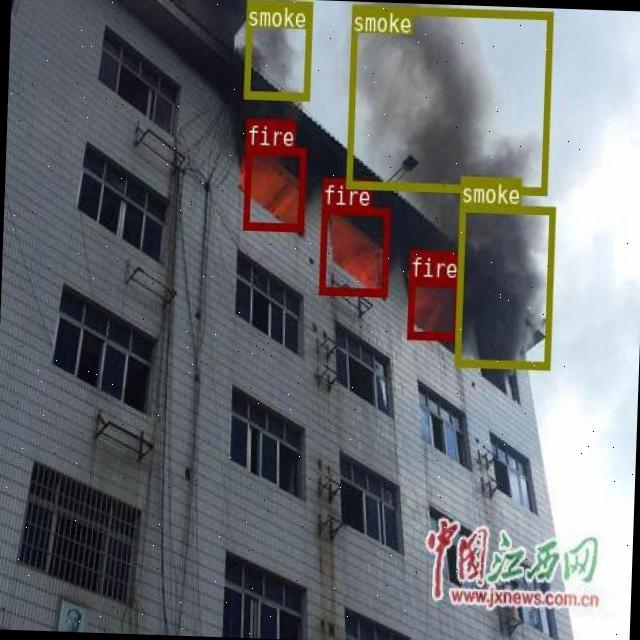fire: (318, 205, 388, 294), (242, 144, 305, 230), (406, 277, 459, 339)
smoke: (345, 4, 551, 195), (454, 202, 554, 368), (243, 0, 311, 98)
